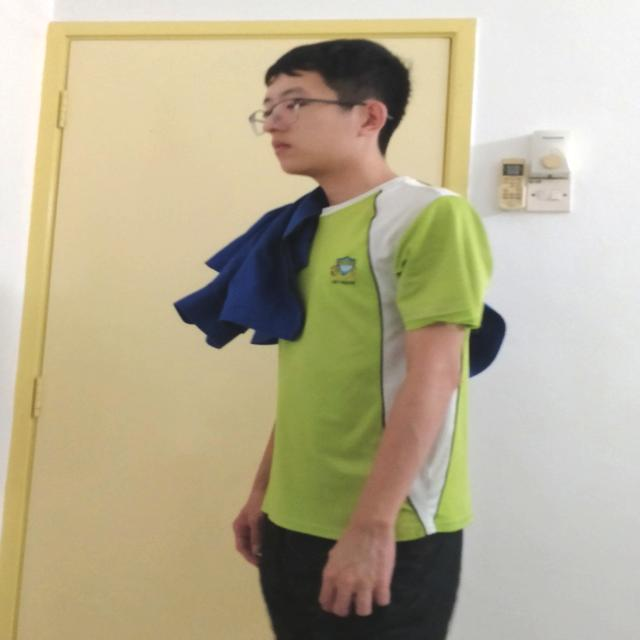person_without_labcoat: (176, 39, 505, 640)
